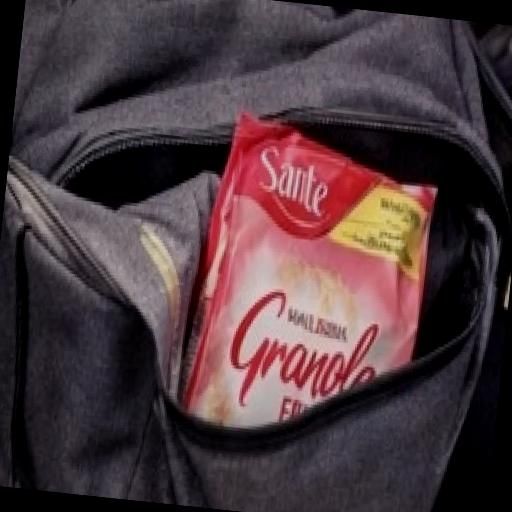granola: (162, 80, 480, 507)
